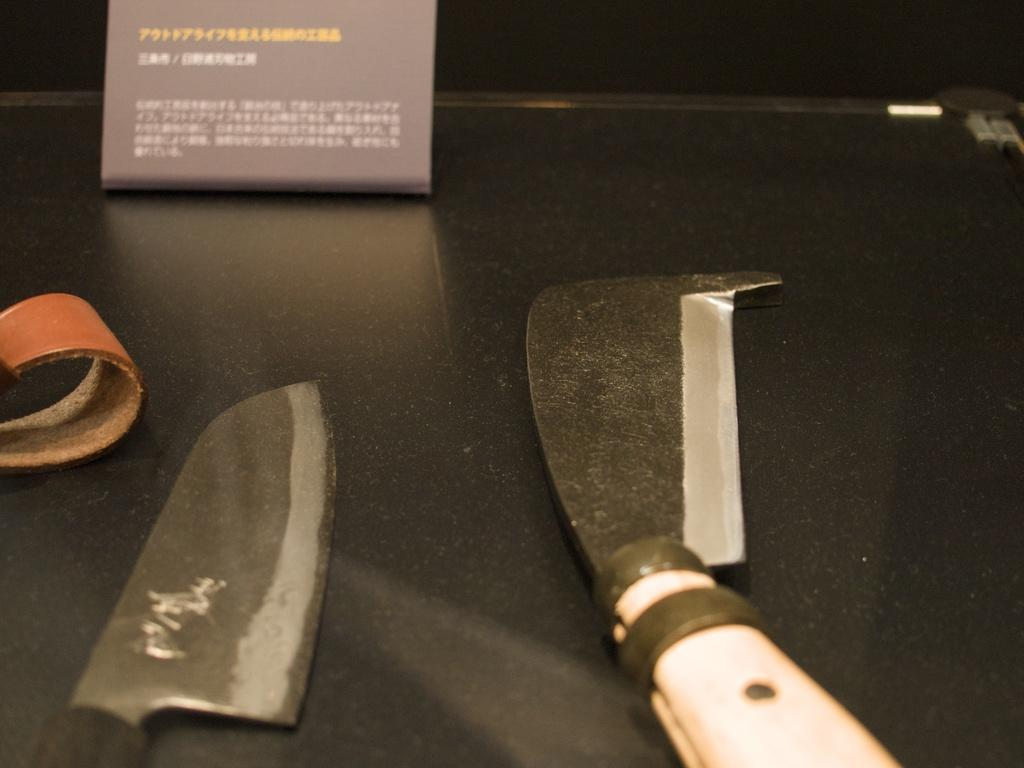knife: (524, 277, 906, 768), (29, 378, 341, 768)
